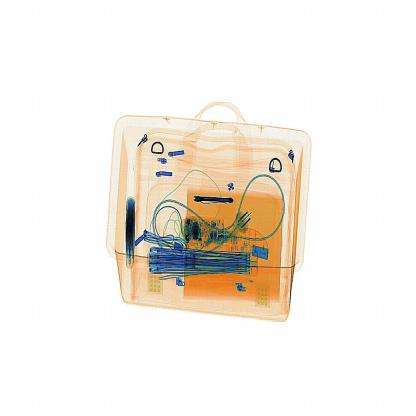knife: (191, 195, 238, 209)
